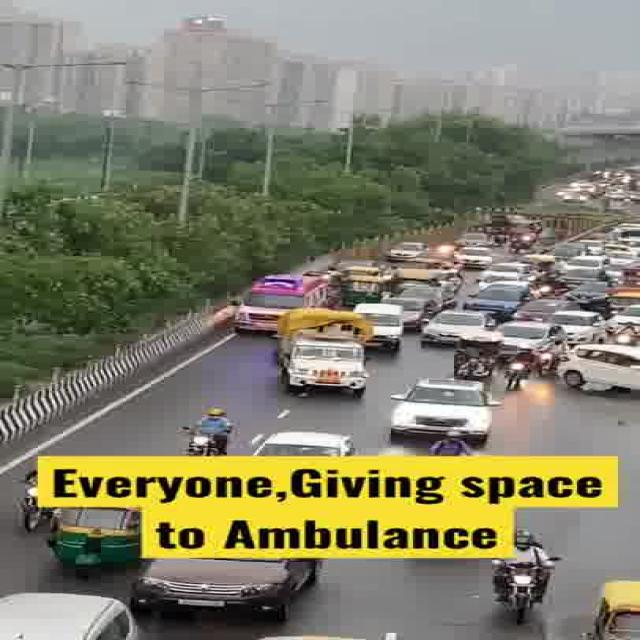ambulance: (231, 272, 336, 332)
